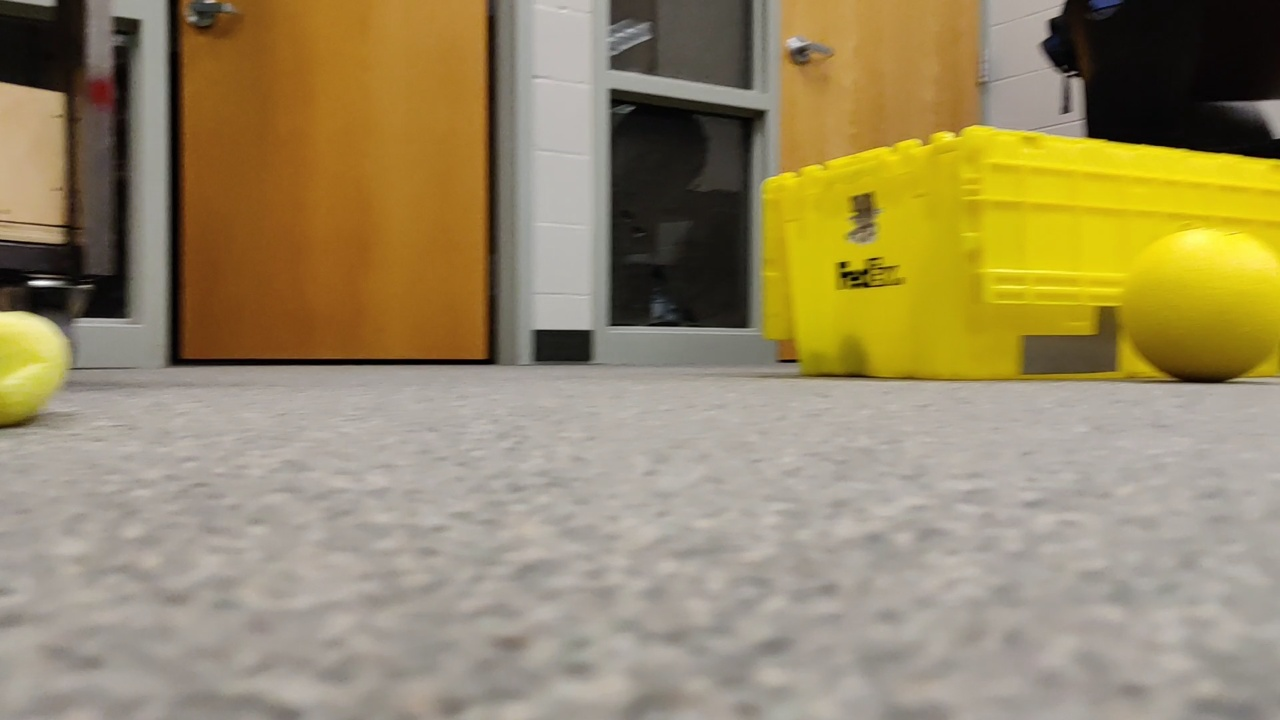Ball: (1127, 226, 1273, 383)
